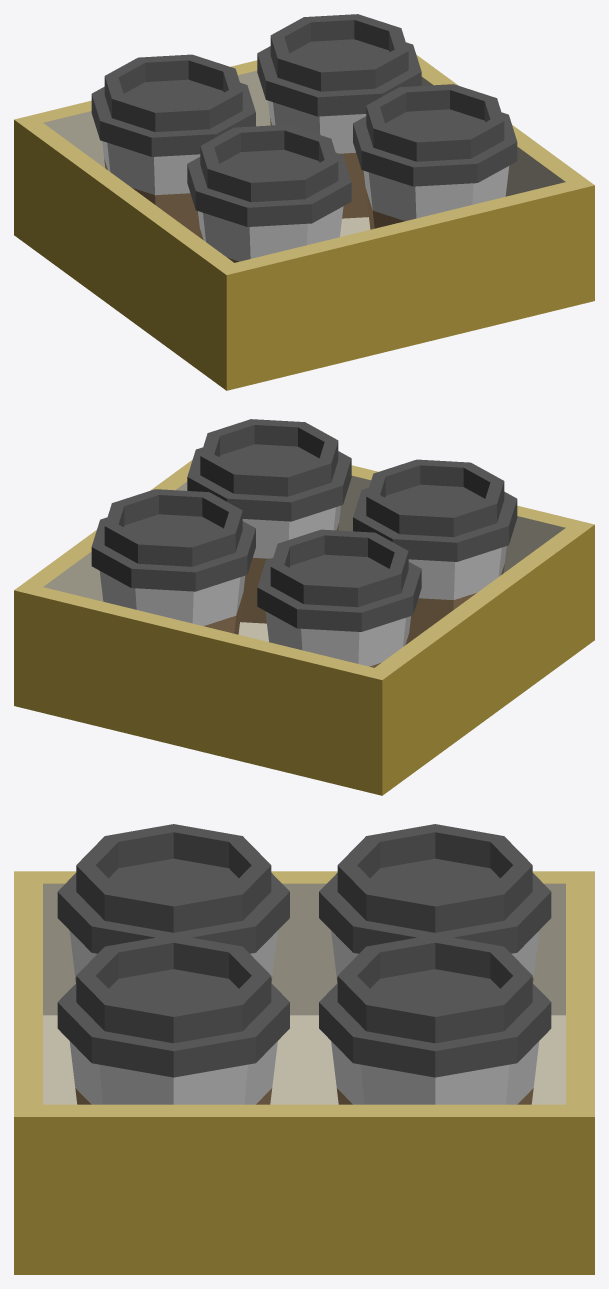
Rendered from Package_Coffee.fbx.
3 renders of one model, top to bottom at view 1: azimuth 30°, elevation 25°; view 2: azimuth 150°, elevation 25°; view 3: azimuth 270°, elevation 25°, orthographic. The views are drawn at different scales.
Visible parts, largest first — view 1: Package_Coffee; view 2: Package_Coffee; view 3: Package_Coffee.
Part boxes in pixels (x1=…): Package_Coffee: x1=14, y1=14, x2=594, y2=390; Package_Coffee: x1=14, y1=419, x2=594, y2=795; Package_Coffee: x1=14, y1=824, x2=594, y2=1274.
Bounding box in the file's own units: 1 × 0.44 × 1.
Materials: 1 (1 with a texture image).
